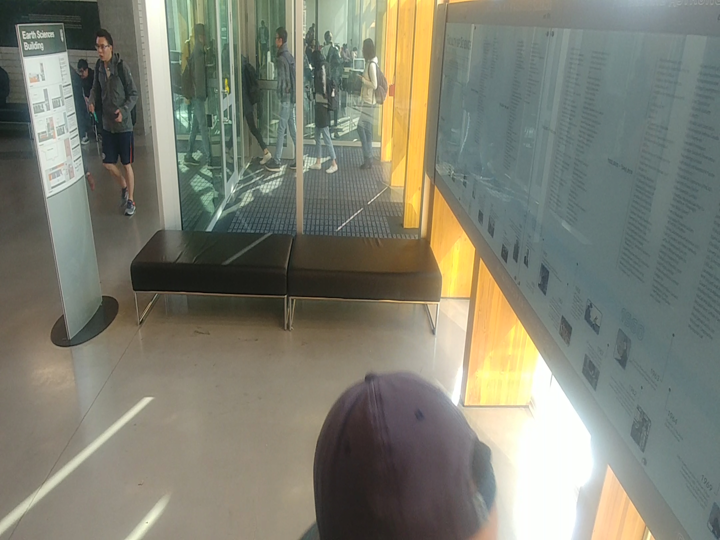face: (89, 23, 117, 68), (267, 23, 291, 54), (304, 45, 327, 72), (358, 33, 378, 64), (72, 54, 93, 81)
human: (81, 24, 143, 220), (172, 19, 222, 177), (348, 28, 387, 174), (262, 23, 298, 173), (304, 43, 339, 175)
